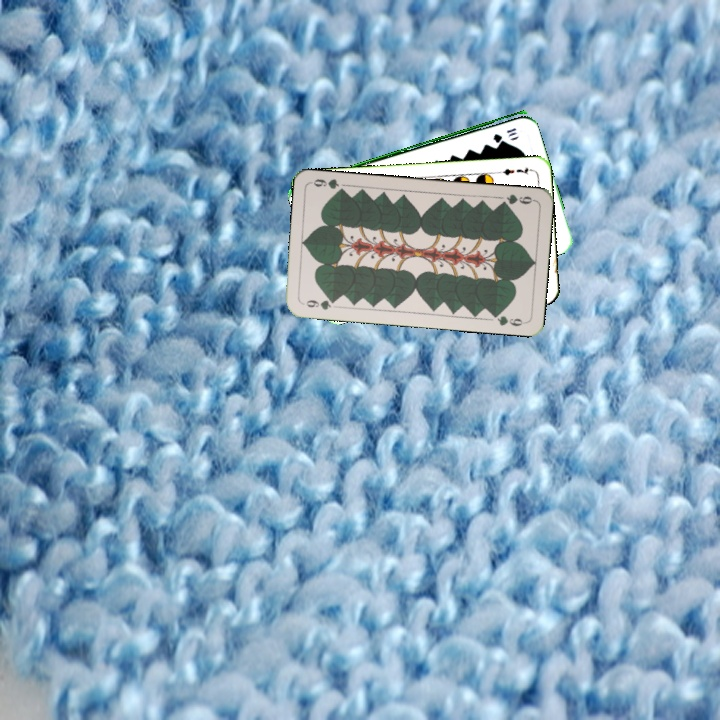E7: (494, 164, 535, 178)
G10: (489, 124, 519, 143)
G9: (496, 190, 537, 208), (299, 296, 339, 312)
